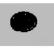correct: (8, 9, 39, 35)
